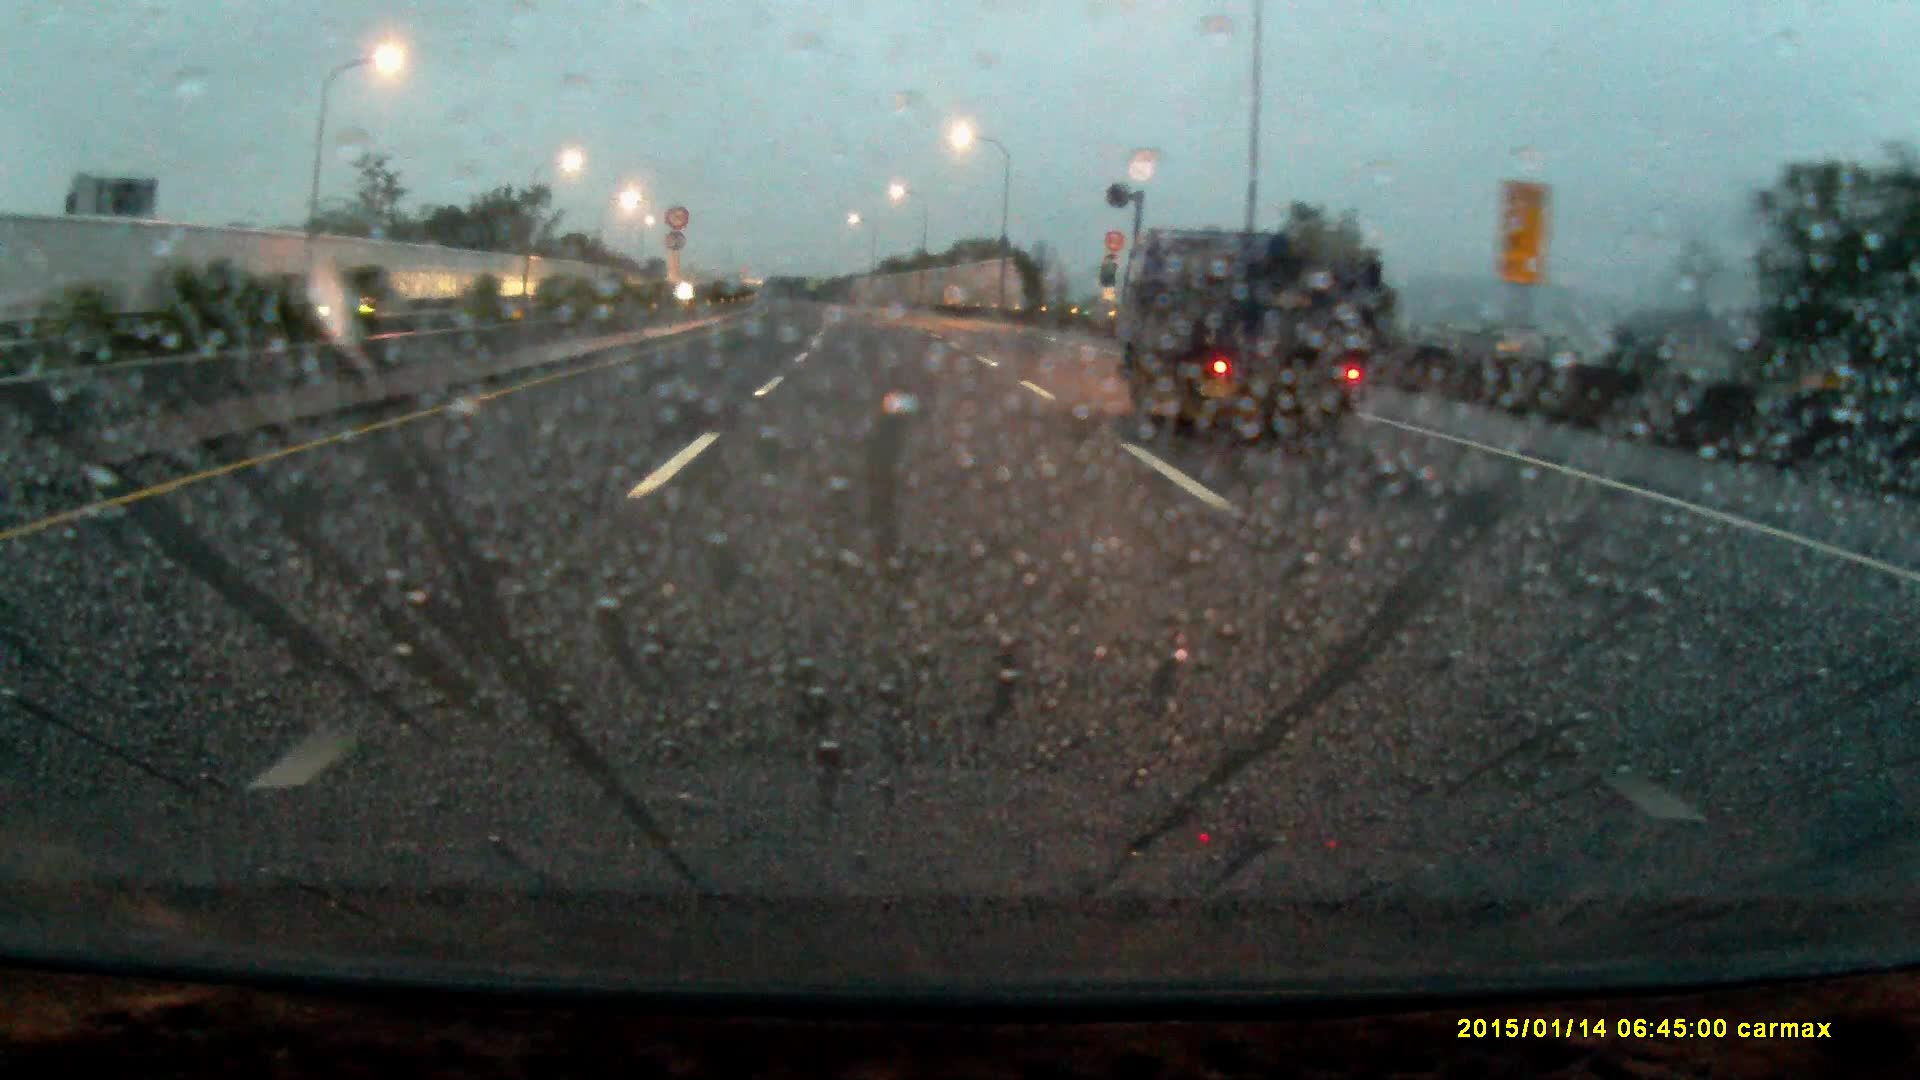vehicle: (1122, 232, 1375, 469), (313, 291, 407, 332)
